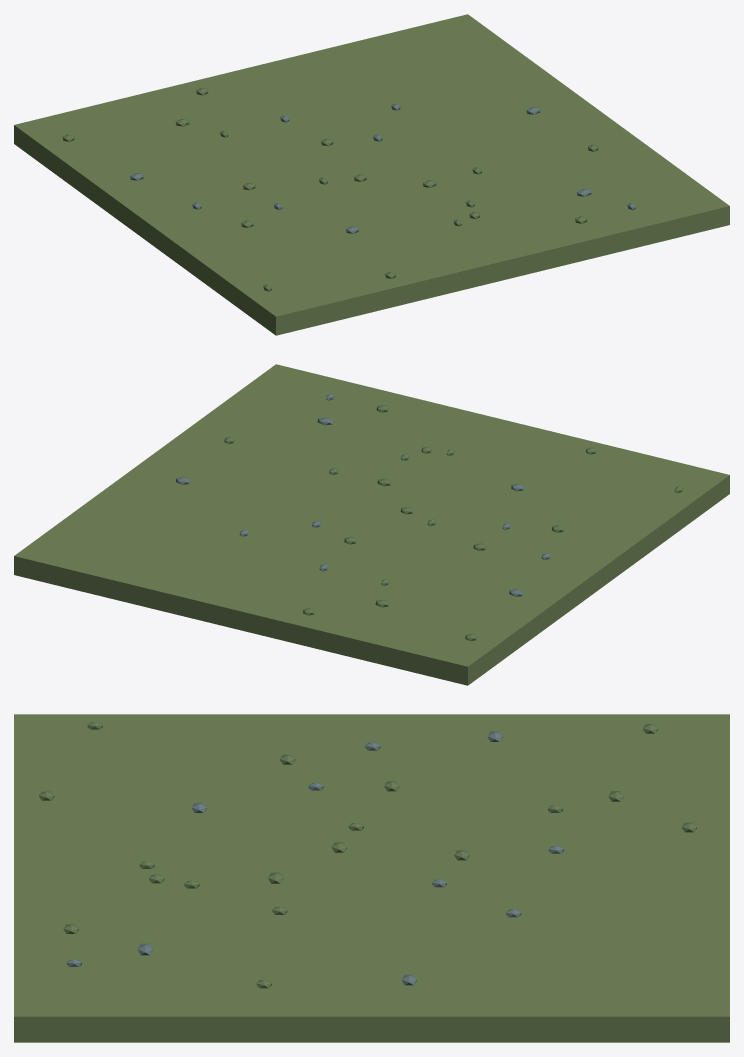
The model's file is ground_grass.glb.
3 renders of one model, top to bottom at view 1: azimuth 30°, elevation 25°; view 2: azimuth 150°, elevation 25°; view 3: azimuth 270°, elevation 25°, orthographic. The views are drawn at different scales.
Parts seen in each view (by area): view 1: Keep_Mesh; view 2: Keep_Mesh; view 3: Keep_Mesh.
Part boxes in pixels (left/top/right/bottom): Keep_Mesh: left=14, top=14, right=729, bottom=335; Keep_Mesh: left=14, top=364, right=729, bottom=685; Keep_Mesh: left=14, top=714, right=729, bottom=1042.
Size of the model in its own units: 4 by 0.2 by 4.
